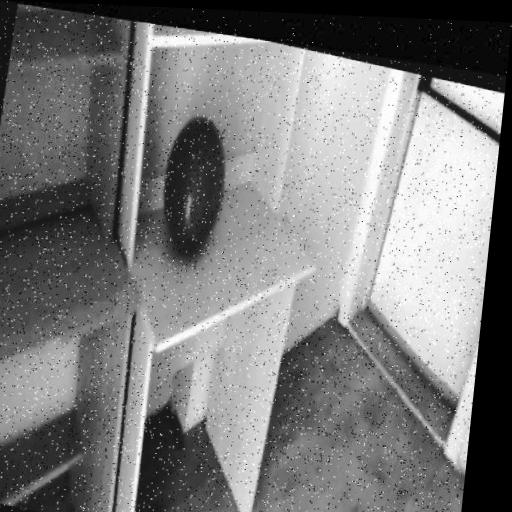balloon: (148, 94, 241, 267)
